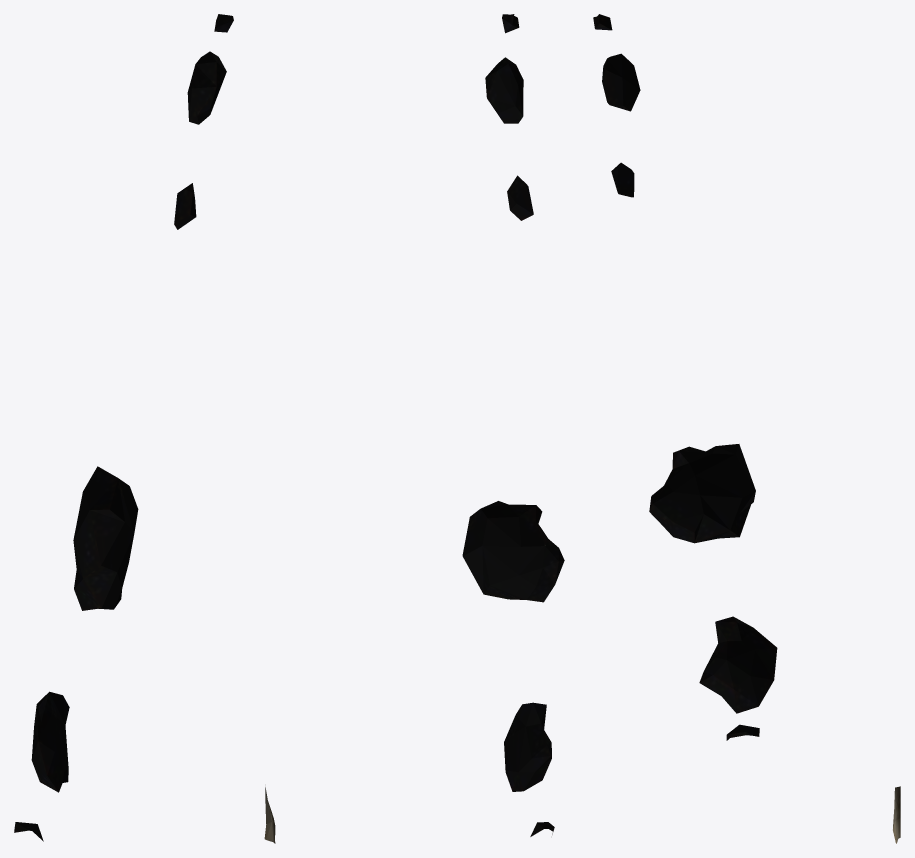
3 views of the same model, side by side, from view 1: azimuth 30°, elevation 25°; view 2: azimuth 150°, elevation 25°; view 3: azimuth 270°, elevation 25° (orthographic). The views are drawn at different scales.
Size of the model in its own units: 0.2535 by 0.8374 by 0.3016.
Materials: 1 (1 with a texture image).
